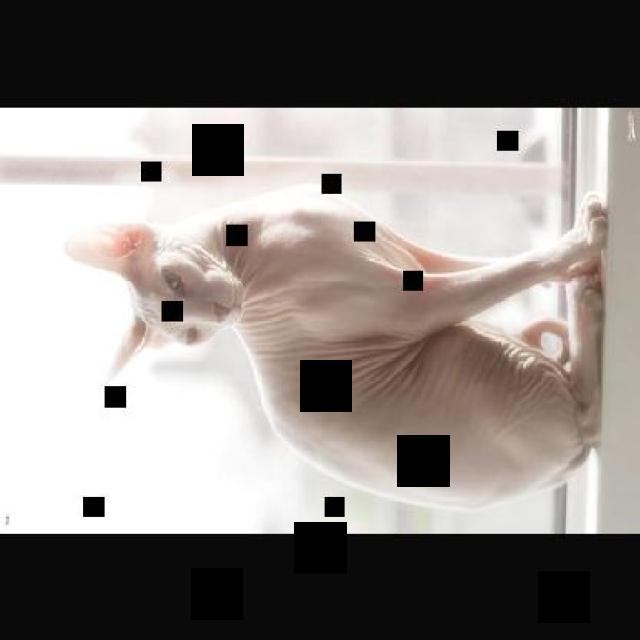unauthorized: (63, 180, 608, 511)
